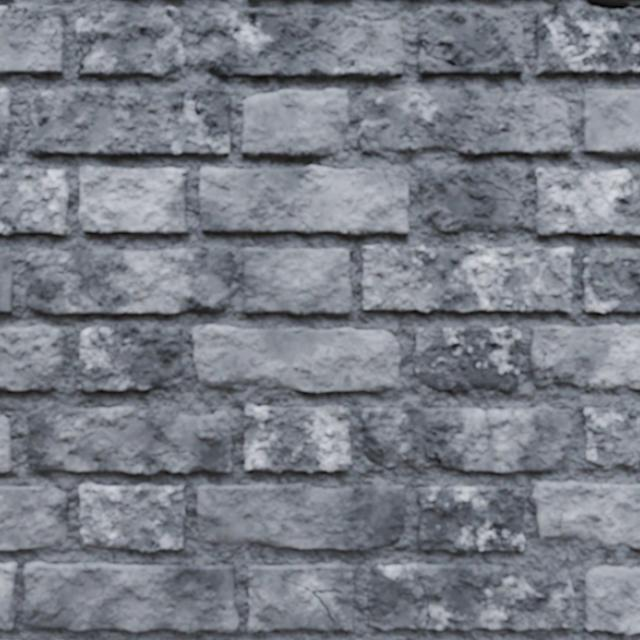brick: (24, 563, 238, 633), (359, 88, 573, 156), (198, 9, 405, 78), (367, 564, 577, 631), (201, 167, 409, 234), (362, 246, 573, 312), (27, 88, 231, 156), (197, 484, 405, 550), (363, 407, 570, 472), (194, 326, 399, 391), (28, 408, 232, 473), (26, 251, 232, 313), (247, 564, 353, 633), (76, 9, 184, 76), (536, 5, 639, 75), (534, 168, 639, 236), (418, 486, 526, 552), (81, 484, 185, 552), (244, 406, 351, 472), (534, 482, 639, 549), (242, 90, 348, 156), (414, 327, 520, 393), (244, 249, 351, 314), (418, 9, 523, 75), (79, 168, 185, 233), (76, 326, 182, 391), (421, 168, 528, 232), (531, 325, 639, 388), (0, 169, 69, 236), (0, 487, 68, 550), (0, 7, 64, 73), (0, 326, 64, 391), (583, 90, 639, 155), (586, 567, 639, 635), (582, 250, 639, 313), (584, 407, 639, 468), (0, 564, 16, 629), (26, 6, 65, 29), (0, 252, 12, 311), (0, 89, 10, 153), (0, 416, 11, 471), (77, 48, 81, 59)
crack: (3, 4, 64, 53), (419, 38, 483, 69), (418, 576, 447, 629), (194, 89, 218, 138), (162, 90, 189, 133), (76, 33, 99, 74), (531, 348, 560, 380), (585, 0, 639, 11), (383, 170, 395, 207), (264, 68, 288, 77), (538, 222, 563, 230), (180, 170, 186, 179), (406, 168, 411, 174)
